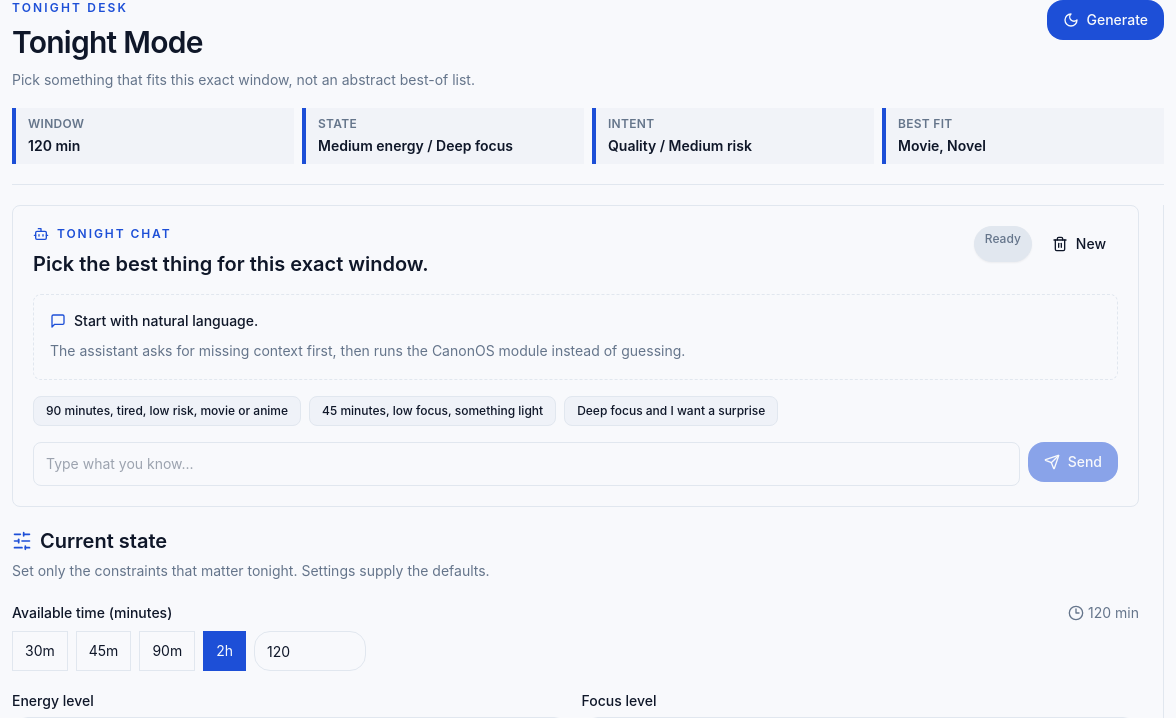
TonightModePage › validates available time before generating
The width and height of the screenshot is (1176, 718).
Step 1. Clear the number field labelled "Available time (minutes)" → [310, 651], box [254,631,366,671]
(page scrolled)
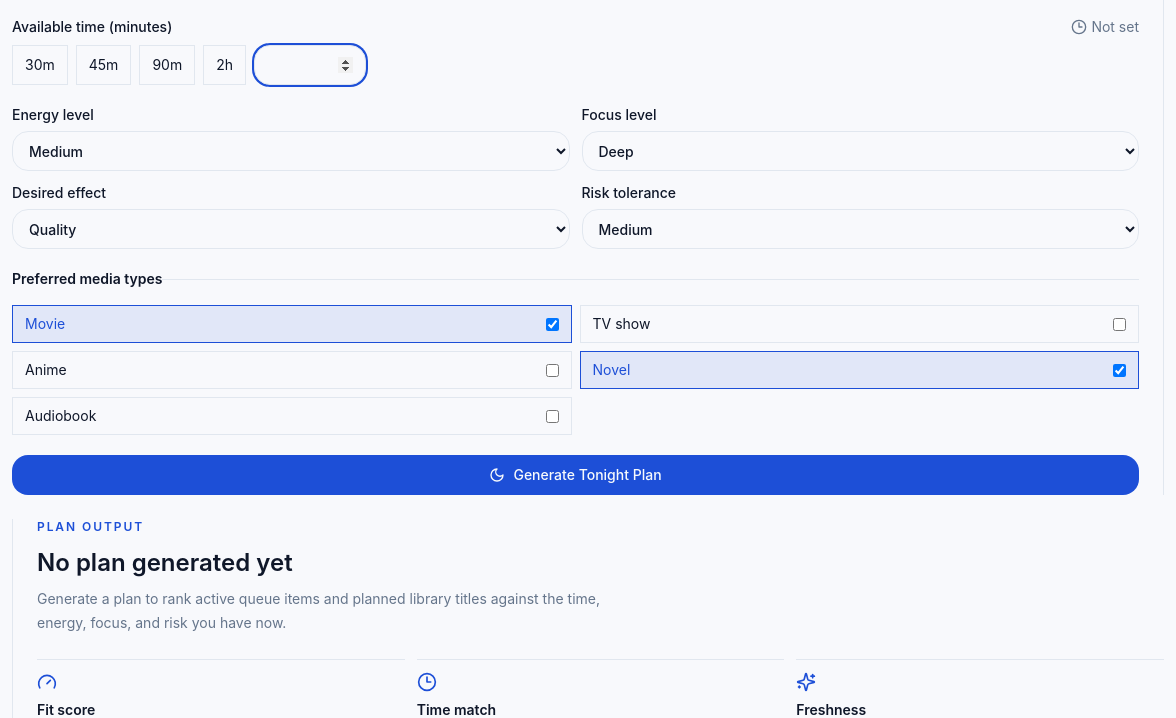
Step 2. Click the button "Generate Tonight Plan" → [576, 475], box [12,455,1139,495]
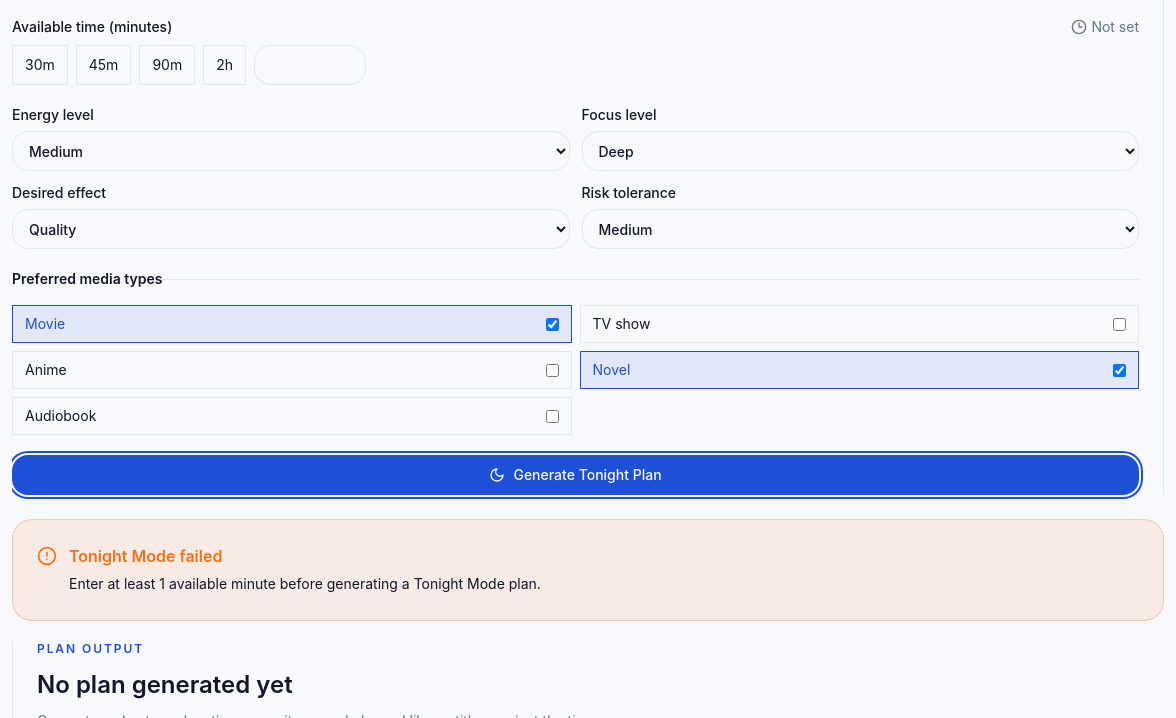
Result: the text "Enter at least 1 available minute before generating a Tonight Mode plan." is shown at [69,572,541,596]
